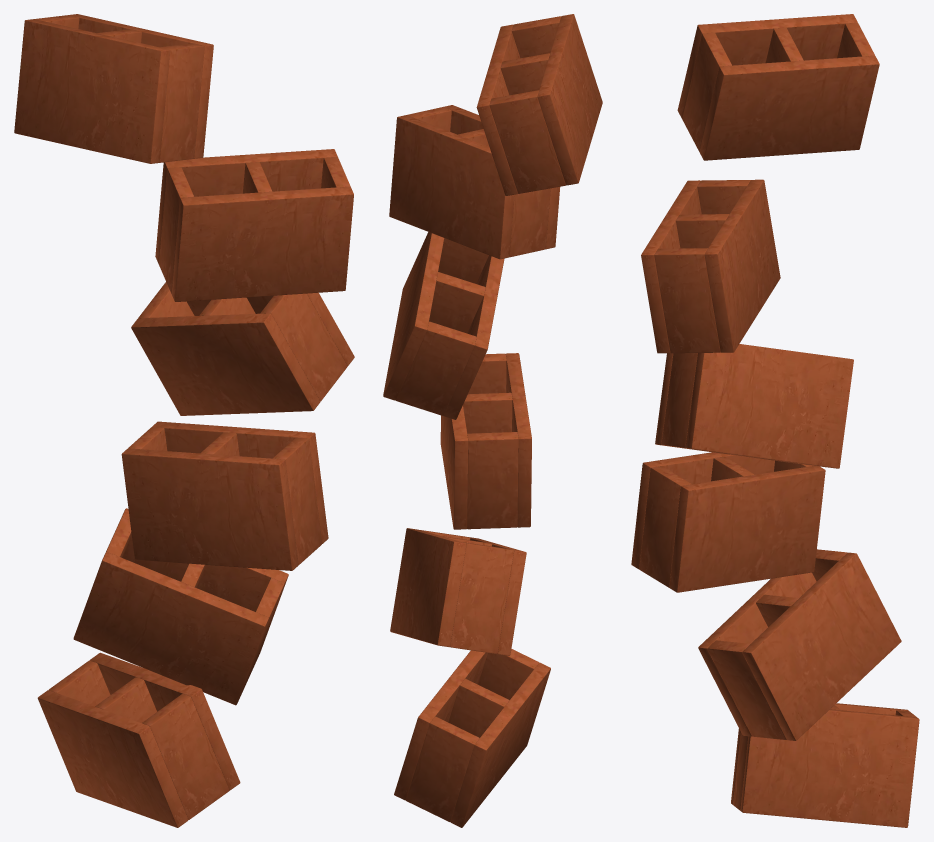
Rendered from ALV-BLC-006_anim.glb.
The picture shows the model from 3 angles, left to right: view 1: azimuth 30°, elevation 25°; view 2: azimuth 150°, elevation 25°; view 3: azimuth 270°, elevation 25°; orthographic projection. The views are drawn at different scales.
Visible parts, largest first — view 1: ALV-BLC-006_anim4, ALV-BLC-006_anim2, ALV-BLC-006_anim5, ALV-BLC-006_anim0, ALV-BLC-006_anim1, ALV-BLC-006_anim3; view 2: ALV-BLC-006_anim5, ALV-BLC-006_anim4, ALV-BLC-006_anim0, ALV-BLC-006_anim3, ALV-BLC-006_anim1, ALV-BLC-006_anim2; view 3: ALV-BLC-006_anim5, ALV-BLC-006_anim1, ALV-BLC-006_anim2, ALV-BLC-006_anim3, ALV-BLC-006_anim4, ALV-BLC-006_anim0.
Part boxes in pixels (left/top/right/bottom): ALV-BLC-006_anim4: left=155, top=149, right=353, bottom=301; ALV-BLC-006_anim2: left=121, top=421, right=328, bottom=570; ALV-BLC-006_anim5: left=14, top=14, right=213, bottom=163; ALV-BLC-006_anim0: left=37, top=652, right=240, bottom=827; ALV-BLC-006_anim1: left=73, top=508, right=288, bottom=705; ALV-BLC-006_anim3: left=131, top=282, right=354, bottom=415; ALV-BLC-006_anim5: left=476, top=14, right=602, bottom=195; ALV-BLC-006_anim4: left=389, top=105, right=560, bottom=259; ALV-BLC-006_anim0: left=394, top=649, right=550, bottom=827; ALV-BLC-006_anim3: left=383, top=232, right=504, bottom=419; ALV-BLC-006_anim1: left=390, top=528, right=526, bottom=655; ALV-BLC-006_anim2: left=440, top=353, right=531, bottom=529; ALV-BLC-006_anim5: left=677, top=14, right=879, bottom=160; ALV-BLC-006_anim1: left=698, top=549, right=901, bottom=740; ALV-BLC-006_anim2: left=631, top=452, right=825, bottom=592; ALV-BLC-006_anim3: left=655, top=344, right=853, bottom=468; ALV-BLC-006_anim4: left=641, top=179, right=780, bottom=353; ALV-BLC-006_anim0: left=731, top=703, right=919, bottom=827.
Size of the model in its own units: 0.5055 by 1.49 by 0.4955.
1 material, 1 textured.
